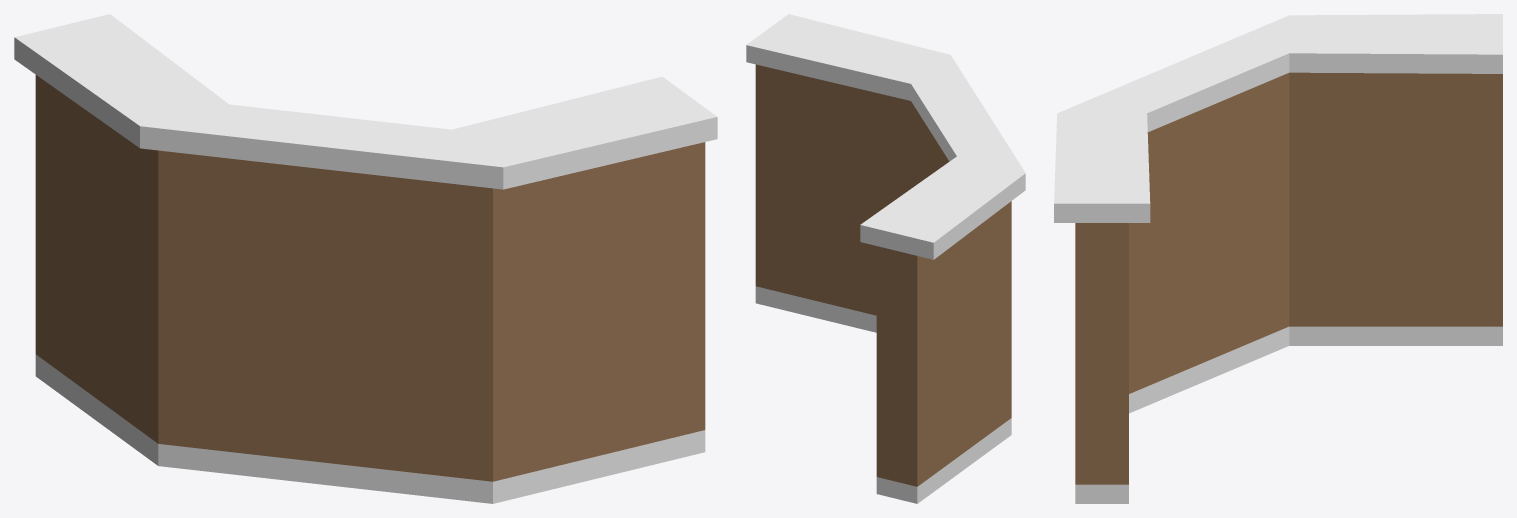
Rendered from SM_200x150_HalfWall_BevelCorner.fbx.
3 views of the same model, side by side, from view 1: azimuth 30°, elevation 25°; view 2: azimuth 150°, elevation 25°; view 3: azimuth 270°, elevation 25° (orthographic). The views are drawn at different scales.
Visible parts, largest first — view 1: SM_200x150_HalfWall_BevelCorner; view 2: SM_200x150_HalfWall_BevelCorner; view 3: SM_200x150_HalfWall_BevelCorner.
Part boxes in pixels (<box>): SM_200x150_HalfWall_BevelCorner: <box>14,14,717,503</box>; SM_200x150_HalfWall_BevelCorner: <box>746,14,1025,503</box>; SM_200x150_HalfWall_BevelCorner: <box>1054,14,1502,503</box>.
Size of what is drawn, in the model's own units: 210 by 210 by 155.
